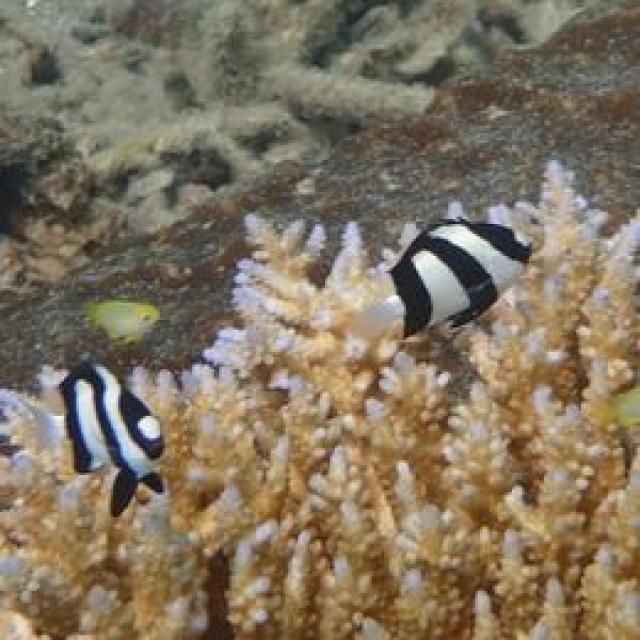ThreeStripedDamselfish: (354, 222, 534, 345), (27, 362, 165, 519)
